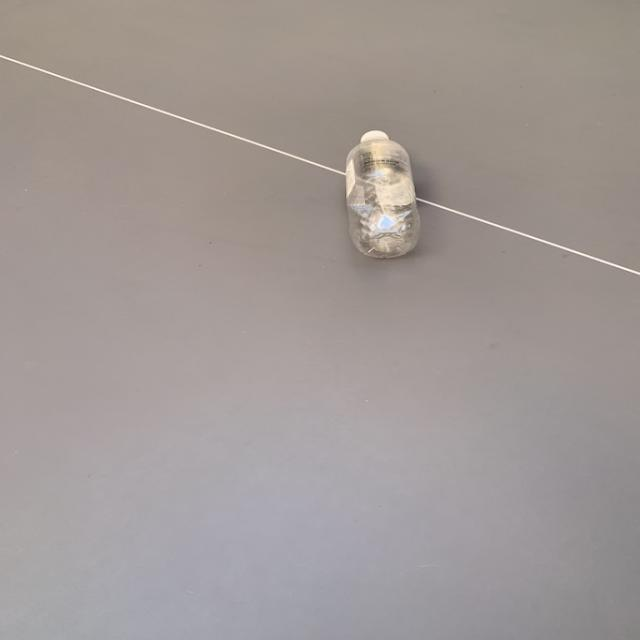litter: (344, 128, 420, 260)
